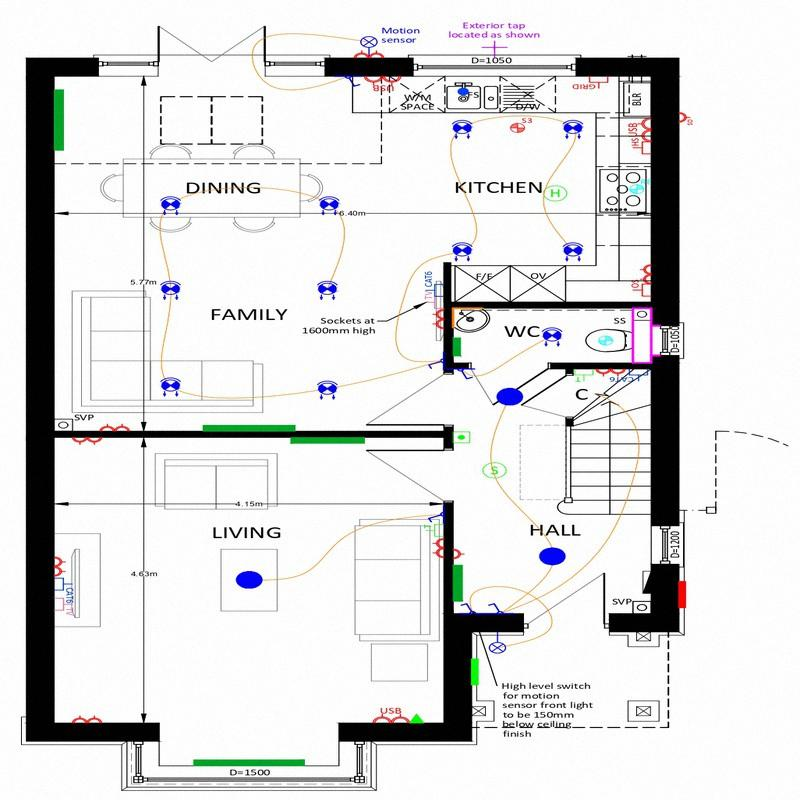BT Entry Point: (410, 714, 422, 723)
Cat 6 Data Socket: (610, 369, 648, 382), (424, 271, 443, 296), (55, 578, 73, 603)
Ceiling Mounted Continuous Extract FanWith Boost Mode Activated By Light Switch: (598, 335, 612, 345)
Ceiling Mounted Continuous Extract FanWith Local Boost Switch: (510, 118, 532, 133)
Co-Ax TV Socket: (54, 598, 73, 615), (425, 292, 443, 308)
Double Socket: (431, 309, 444, 329), (639, 264, 651, 284), (596, 369, 626, 377), (431, 538, 443, 558), (100, 423, 129, 431), (72, 715, 101, 723), (54, 557, 66, 576), (72, 438, 102, 445), (354, 50, 383, 57)
Electric Meter Box: (678, 581, 686, 608)
External Wall Light: (489, 632, 506, 654), (360, 36, 378, 56)
Gas Meter Box: (471, 658, 479, 685)
Grid Switch: (573, 77, 608, 90)
Hob Switch: (631, 138, 651, 154)
Light Switch: (457, 369, 474, 380), (428, 511, 443, 523), (428, 359, 443, 370), (345, 77, 360, 87), (461, 602, 474, 613), (488, 603, 502, 613)
Low Energy Downlighter: (562, 119, 583, 140), (452, 242, 473, 262), (160, 280, 181, 300), (160, 377, 181, 397), (318, 196, 340, 215), (542, 327, 562, 347), (317, 380, 337, 400), (160, 196, 181, 215), (451, 120, 472, 139), (562, 242, 583, 261), (317, 281, 338, 300)
Low Energy Pendant Light: (236, 571, 263, 589), (497, 388, 523, 406), (540, 547, 566, 565)
Mains Wired Smoke Detector: (482, 462, 506, 478)
Outside Socket: (679, 112, 693, 126)
Outside Tap: (482, 41, 508, 57)
Oven Switch: (632, 280, 651, 297)
Programmable Room Thermostat: (453, 431, 470, 443)
Radiator: (194, 760, 305, 766), (54, 89, 64, 151), (203, 425, 295, 431), (291, 438, 365, 443), (453, 565, 463, 601), (453, 338, 461, 356)
Recirculating Extractor Fan: (630, 178, 649, 194)
Single Socket: (453, 549, 464, 559)
Telephone Socket: (574, 369, 594, 383), (424, 523, 443, 537)
USB Double Socket: (371, 707, 409, 723), (364, 76, 401, 92), (628, 117, 651, 141)
Water Entry Position: (458, 88, 469, 96)
